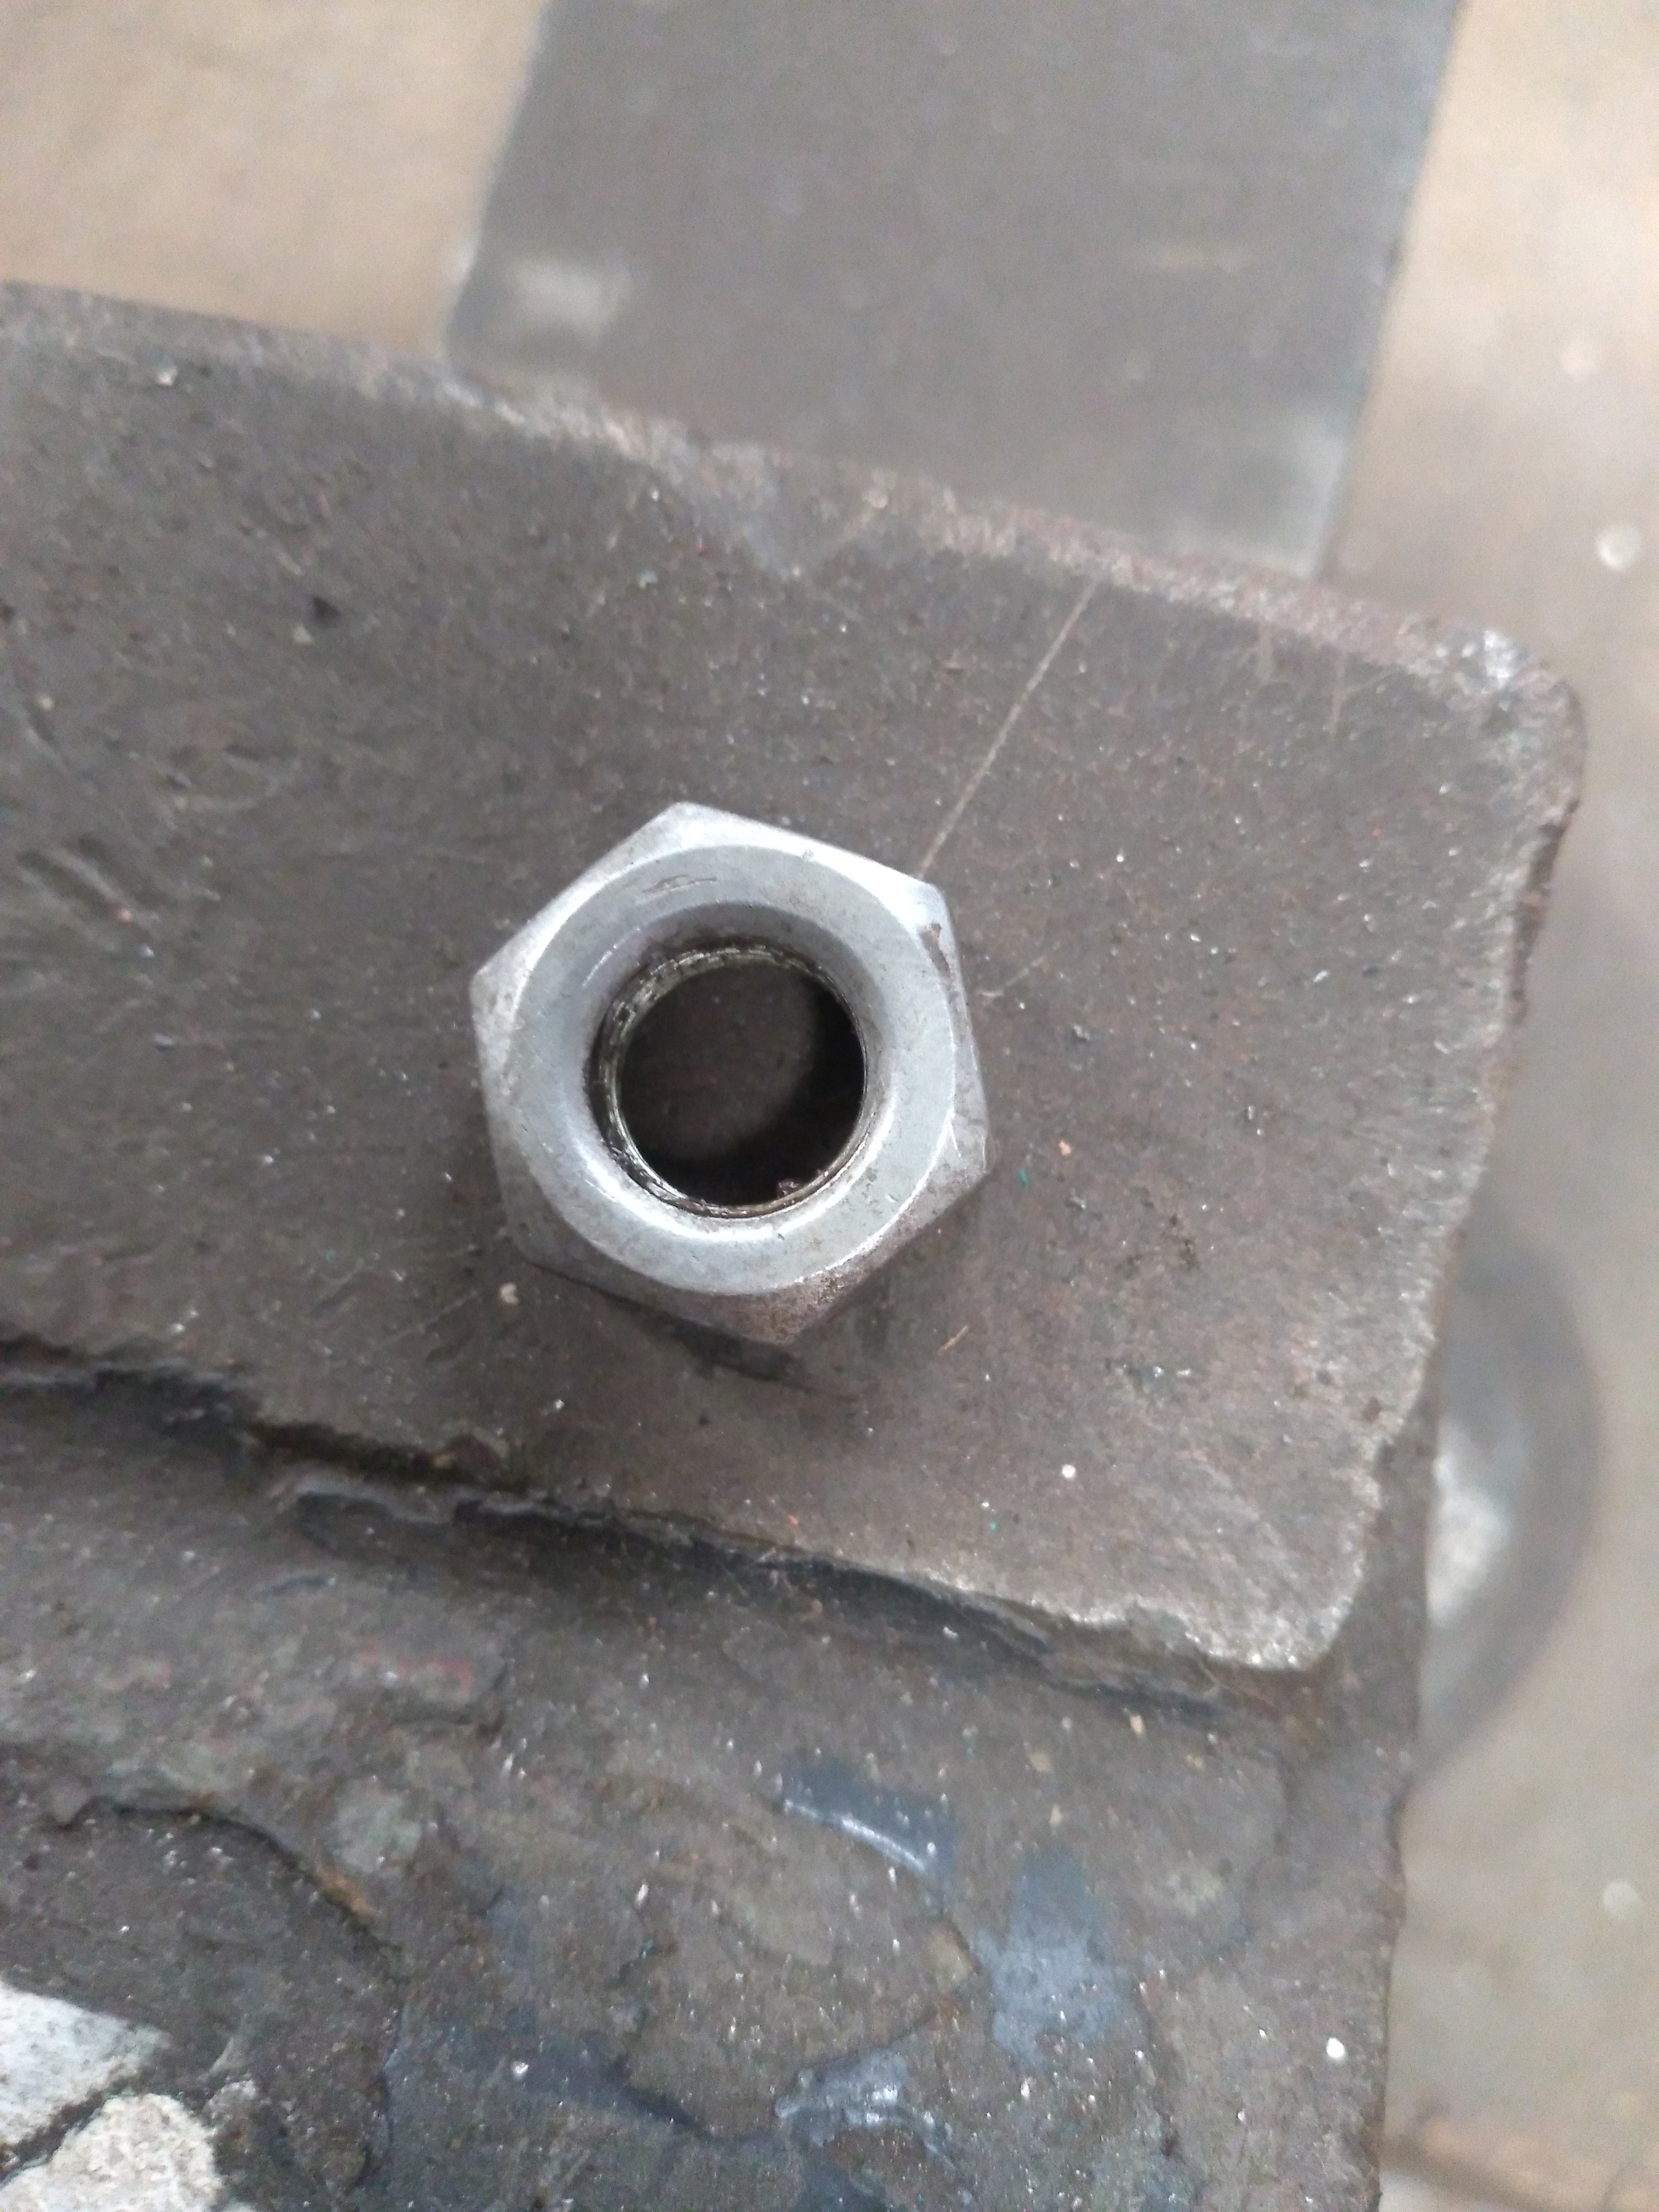Thread: (556, 921, 901, 1214)
